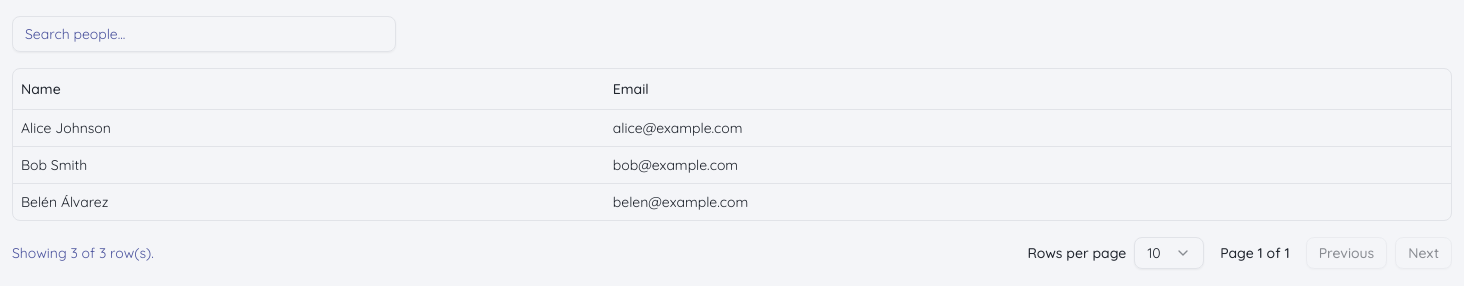
Test case: DataTable › filters rows based on the global search input
The image size is (1464, 286).
Expected: the text "Alice Johnson" is shown, [21,118,111,136]
Expected: the text "Bob Smith" is shown, [21,156,87,174]
Type "Bob" into the field with placeholder "Search people..." at (204, 34), box [12,16,396,52]
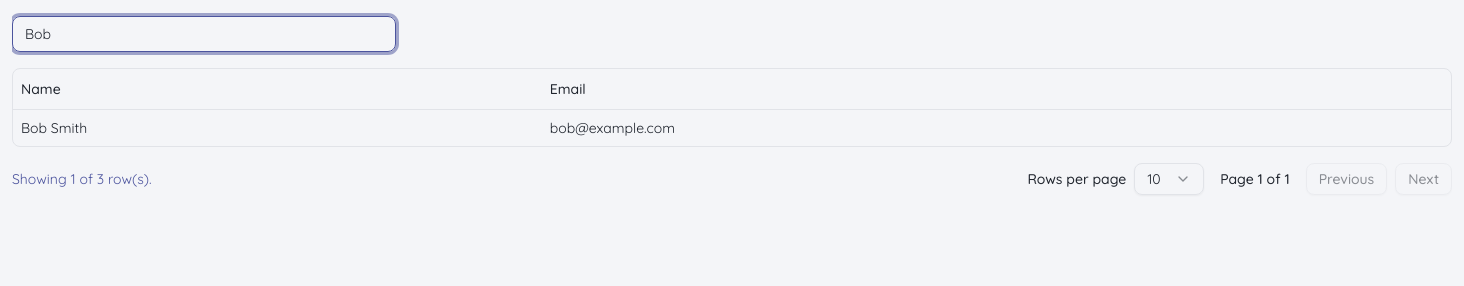
Expected: the text "Bob Smith" is shown, [21,118,87,136]
Expected: the text "Alice Johnson" is gone
